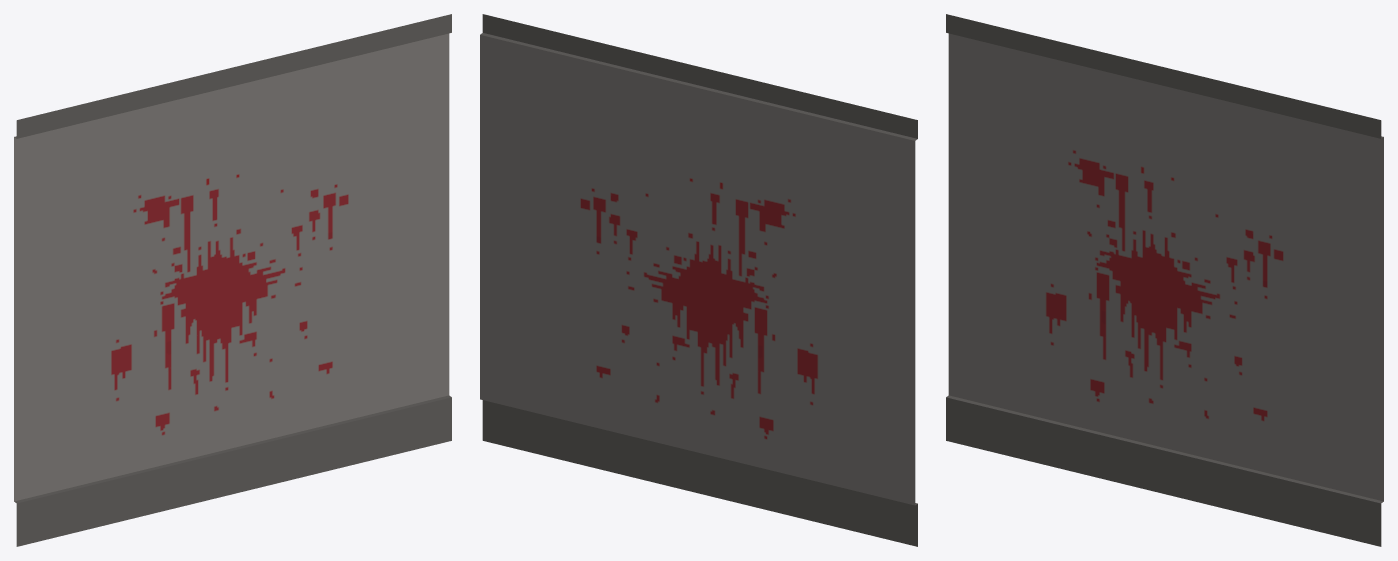
File: AI_Env_Wall_Grey_Bloodsplatter.fbx
3 views of the same model, side by side, from view 1: azimuth 30°, elevation 25°; view 2: azimuth 150°, elevation 25°; view 3: azimuth 330°, elevation 25° (orthographic).
Parts seen in each view (by area): view 1: AI_Env_Wall_Grey_Bloodsplatter; view 2: AI_Env_Wall_Grey_Bloodsplatter; view 3: AI_Env_Wall_Grey_Bloodsplatter.
Part boxes in pixels (x1,y1,x2,y2): AI_Env_Wall_Grey_Bloodsplatter: [14, 14, 451, 546]; AI_Env_Wall_Grey_Bloodsplatter: [480, 14, 917, 546]; AI_Env_Wall_Grey_Bloodsplatter: [946, 14, 1383, 546].
Size of the model in its own units: 5 by 4.69 by 0.0549.
